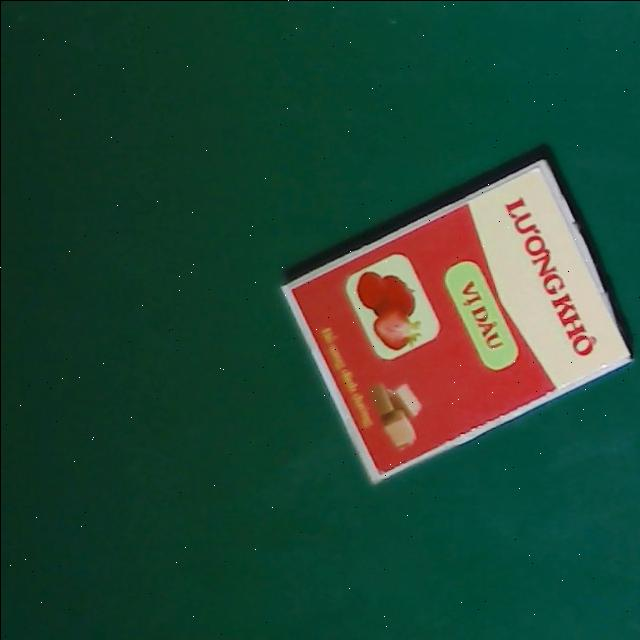dau: (439, 255, 524, 375)
